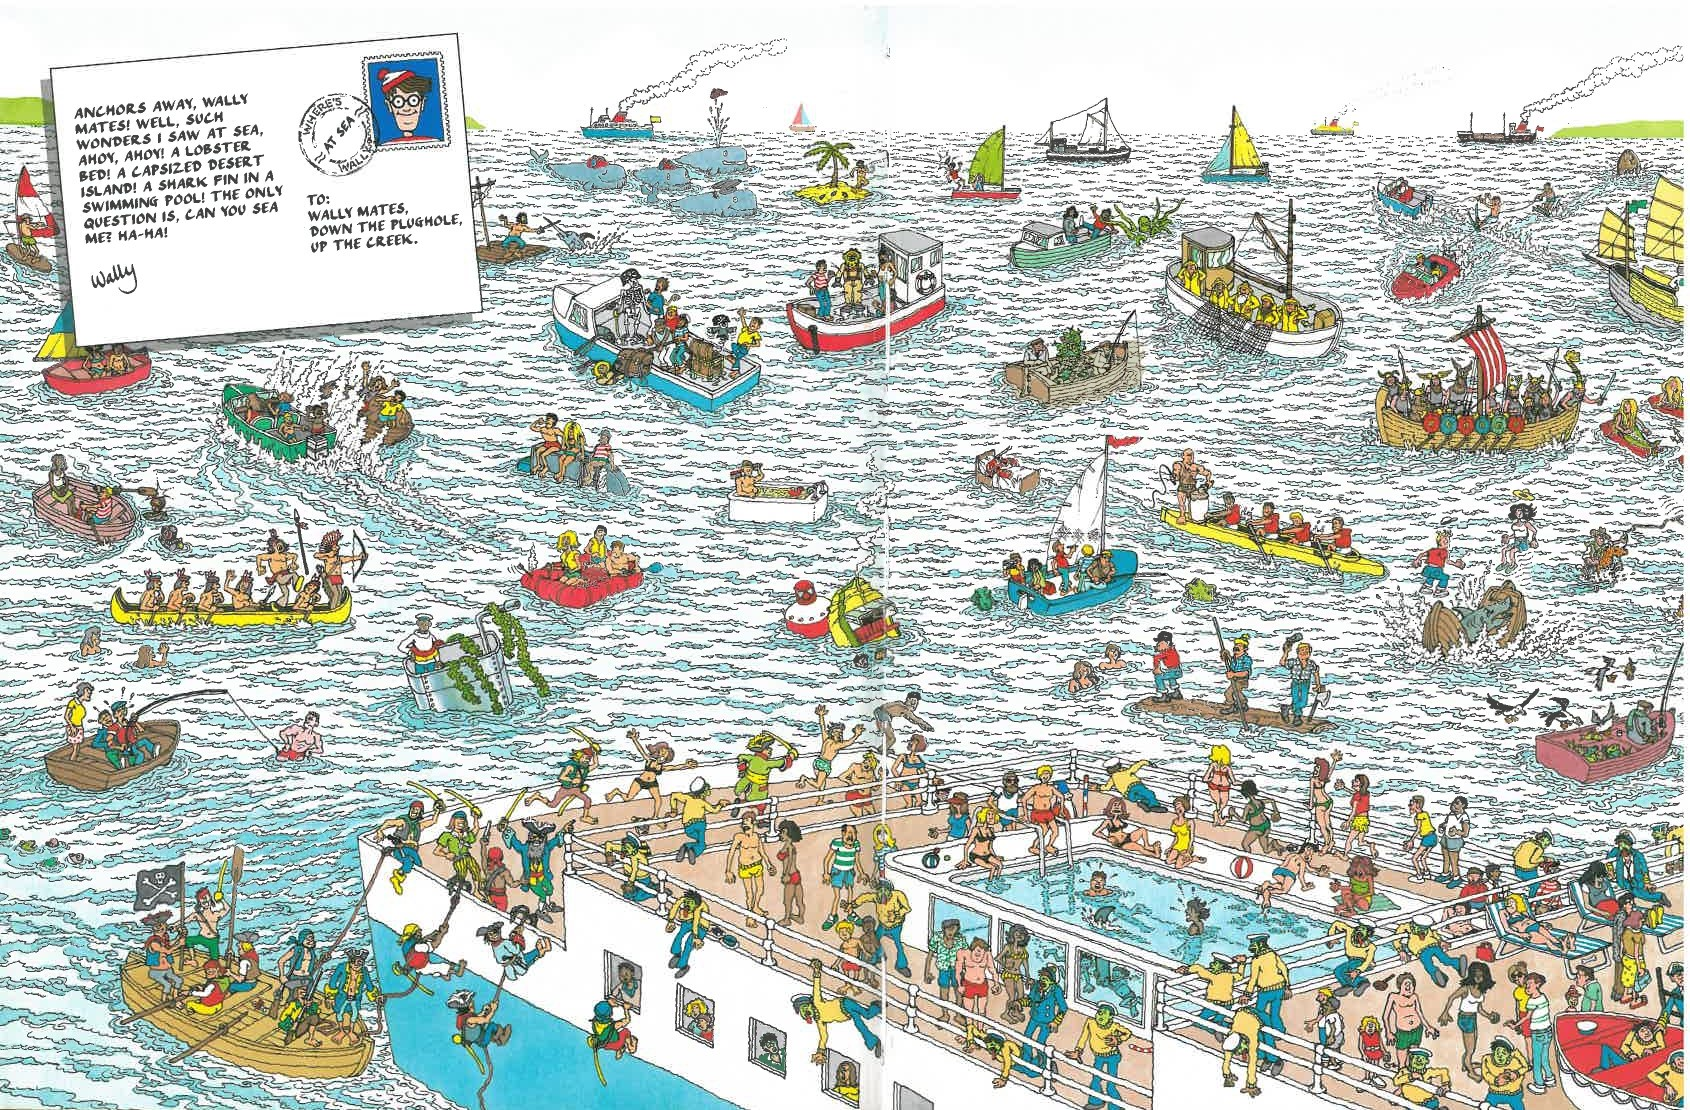waldos: (374, 66, 436, 147), (1531, 859, 1564, 912)
